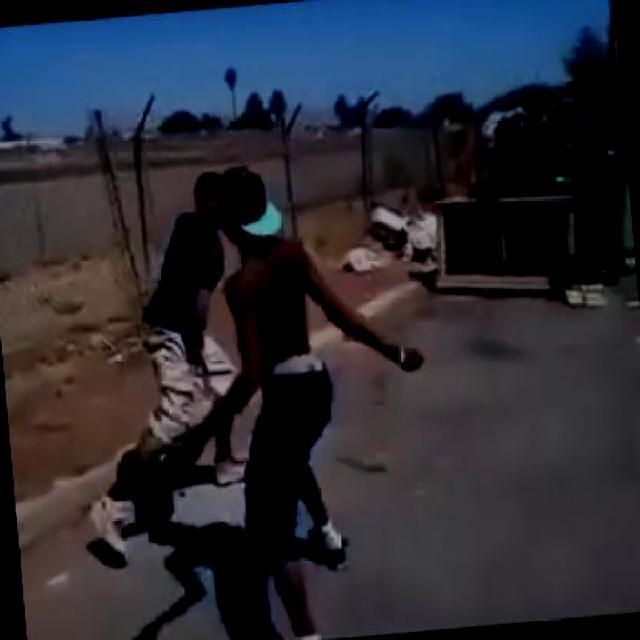fight: (94, 152, 446, 638)
